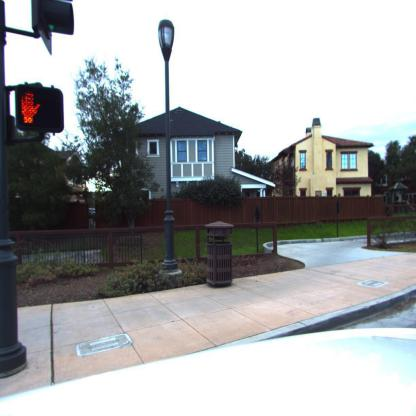traffic light: (6, 83, 64, 140)
